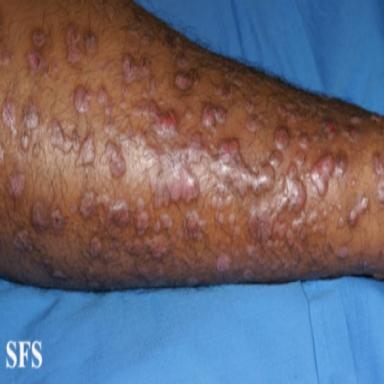Epidermolysis-Bullosa-Pruriginosa: (118, 114, 292, 205), (249, 163, 306, 239), (300, 150, 347, 197), (80, 191, 129, 227), (132, 101, 177, 138), (101, 141, 126, 178), (51, 120, 79, 153), (122, 54, 150, 84), (65, 24, 82, 64), (186, 210, 206, 241), (349, 195, 368, 226), (77, 134, 95, 165), (2, 101, 17, 138), (145, 235, 169, 258), (202, 105, 225, 128), (247, 116, 263, 148), (31, 202, 48, 230), (74, 86, 91, 113), (137, 197, 149, 235), (374, 157, 384, 202), (13, 229, 32, 252), (24, 102, 39, 130), (214, 85, 239, 101), (292, 211, 305, 239), (154, 214, 173, 233), (10, 174, 25, 198), (28, 52, 44, 74), (322, 118, 337, 140), (125, 237, 143, 255), (276, 105, 295, 121), (341, 126, 359, 142), (217, 252, 231, 272), (85, 32, 97, 54), (51, 210, 63, 231), (246, 241, 260, 258), (90, 237, 101, 258), (175, 74, 190, 89), (32, 31, 45, 48), (103, 122, 116, 137), (295, 150, 305, 169), (97, 86, 107, 105), (298, 133, 309, 150), (286, 227, 294, 249), (150, 77, 160, 94), (211, 195, 223, 209), (229, 224, 241, 238), (0, 48, 9, 66), (307, 210, 317, 226), (244, 268, 254, 282), (245, 100, 254, 114), (22, 134, 29, 150), (215, 211, 223, 225), (177, 57, 187, 68), (338, 247, 347, 259), (33, 142, 40, 157), (185, 108, 193, 120), (120, 97, 127, 110), (225, 195, 233, 206), (336, 201, 343, 213), (228, 213, 235, 225), (337, 217, 344, 229), (52, 60, 58, 73), (350, 117, 361, 124), (319, 225, 325, 235), (351, 178, 356, 186), (313, 223, 317, 233), (329, 205, 333, 211), (10, 52, 13, 58)
